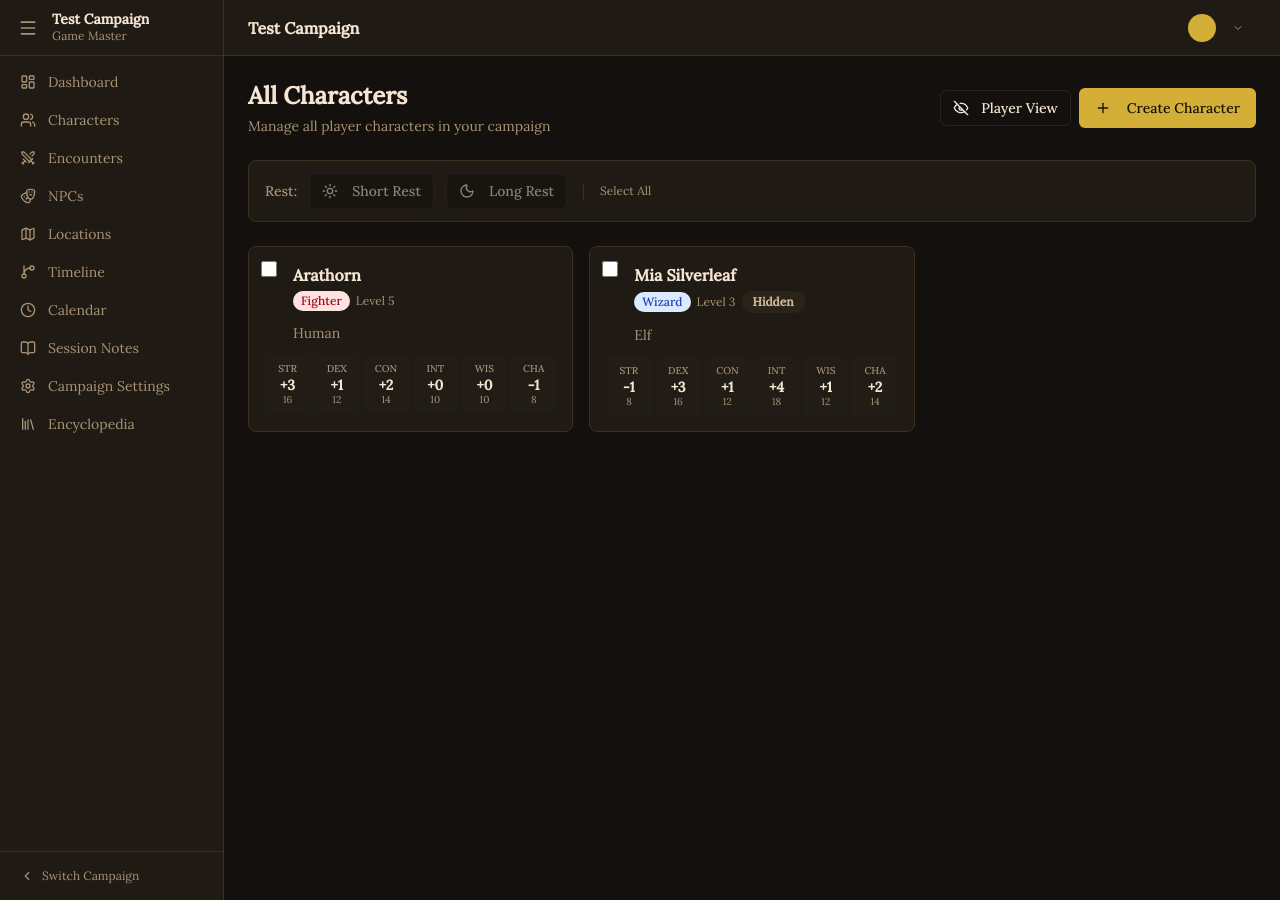
CharacterList — rest buttons (GM view) › rest buttons are enabled after selecting a character
The width and height of the screenshot is (1280, 900).
expect the heading "Arathorn" is shown: met, box [293,265,361,285]
Click the checkbox with test id "char-checkbox-1". click: (269, 269)
box: [261,261,277,277]
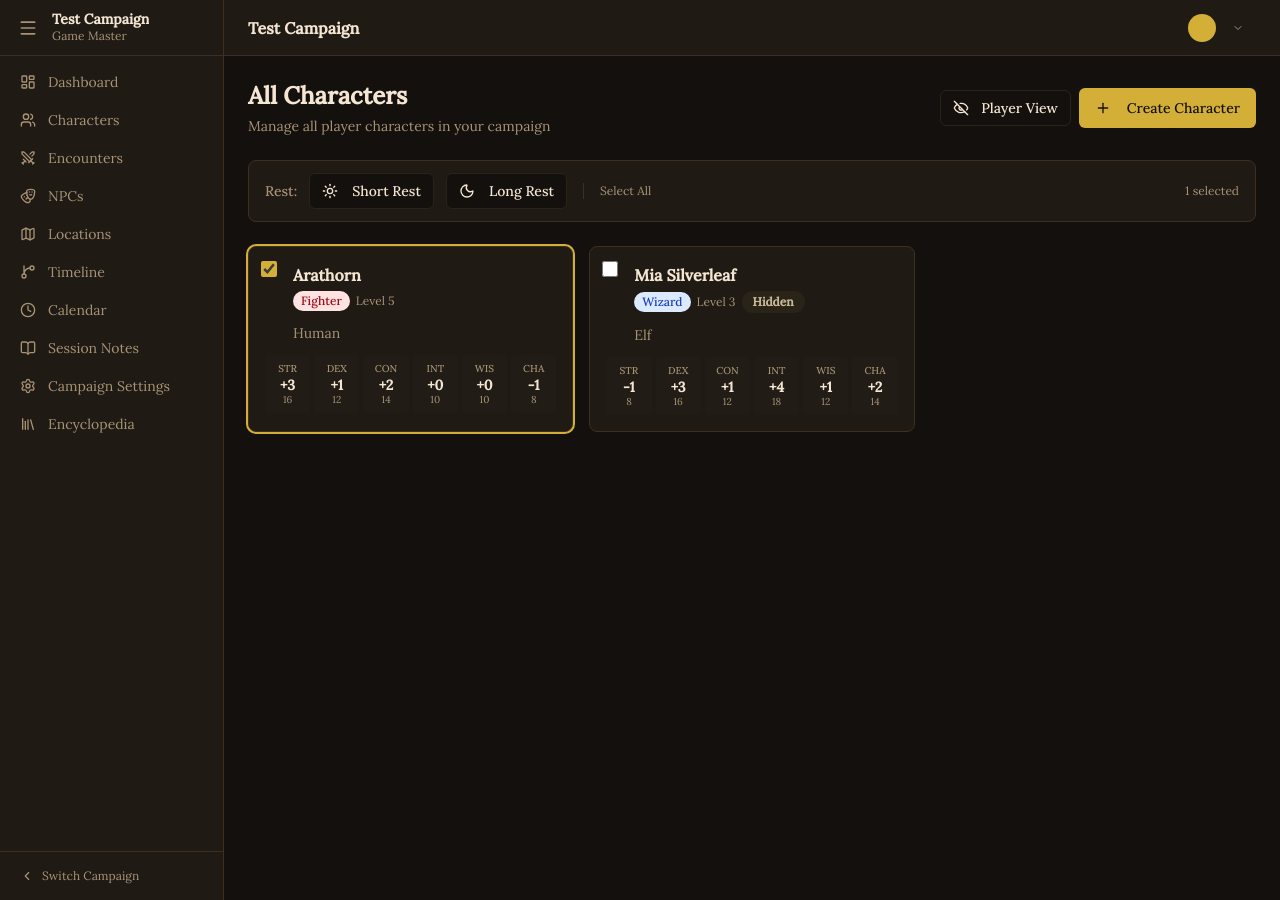
expect the button with test id "short-rest-btn" is enabled: met, box [309,173,434,209]
expect the button with test id "long-rest-btn" is enabled: met, box [446,173,567,209]
